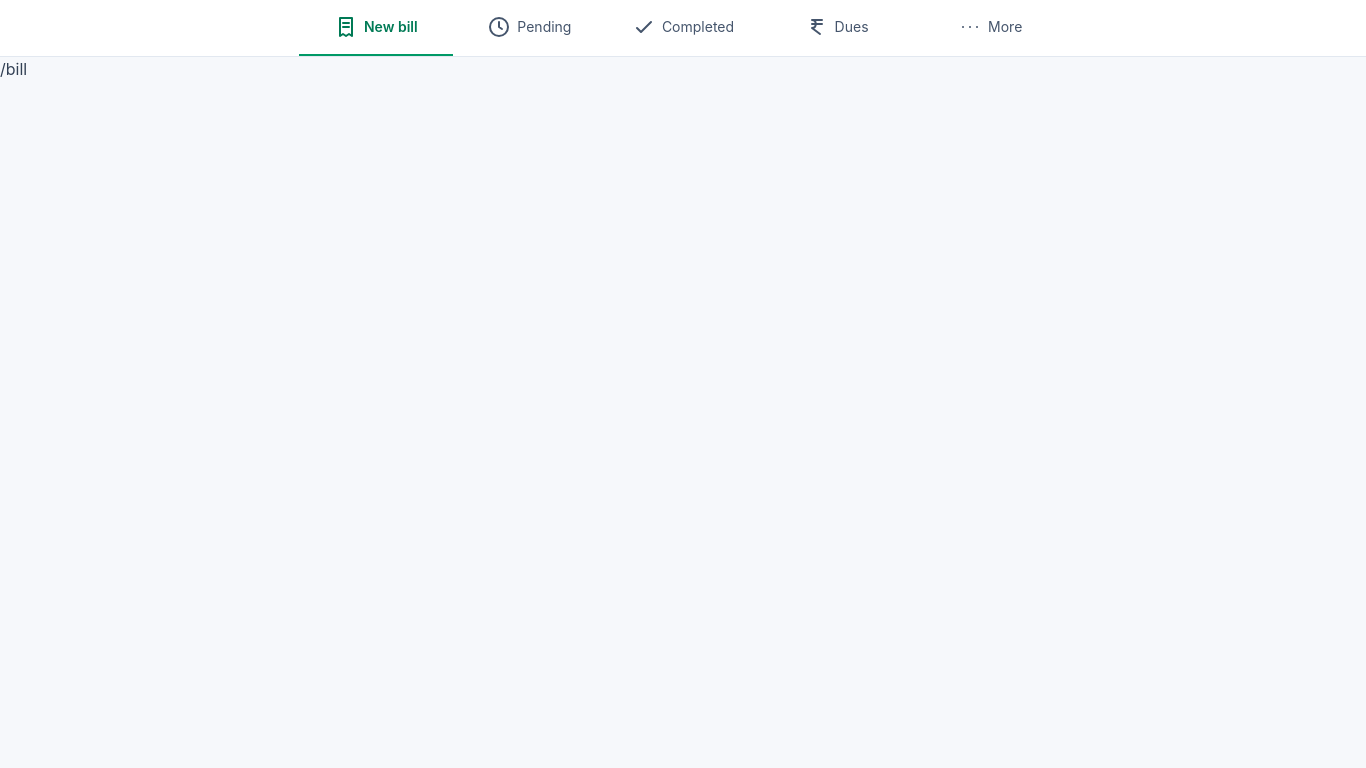
Test: BottomNav More sheet can be dismissed without choosing › closes with the Close button
Click the button "More". click: (990, 28)
box: x1=913 y1=0 x2=1067 y2=56
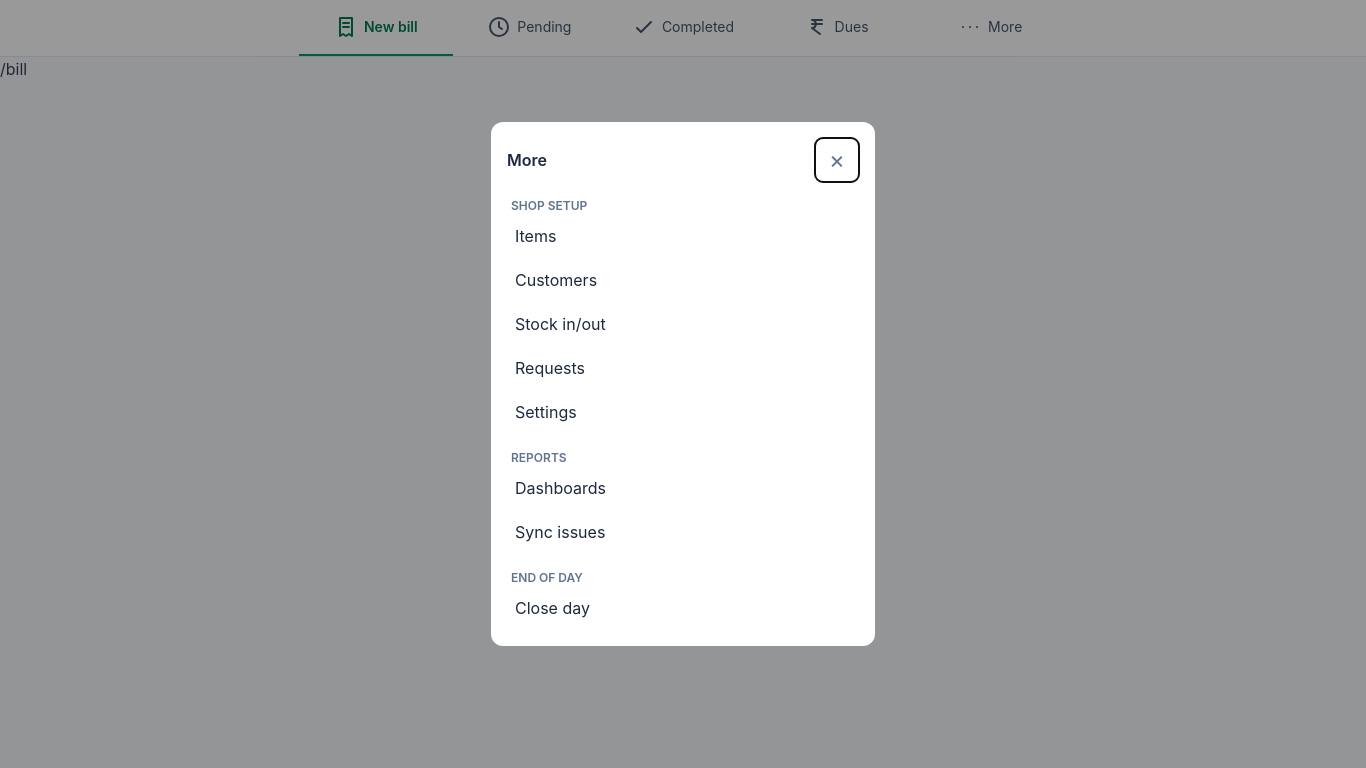
Click the button named "Close". click: (837, 160)
box: x1=815 y1=138 x2=859 y2=182
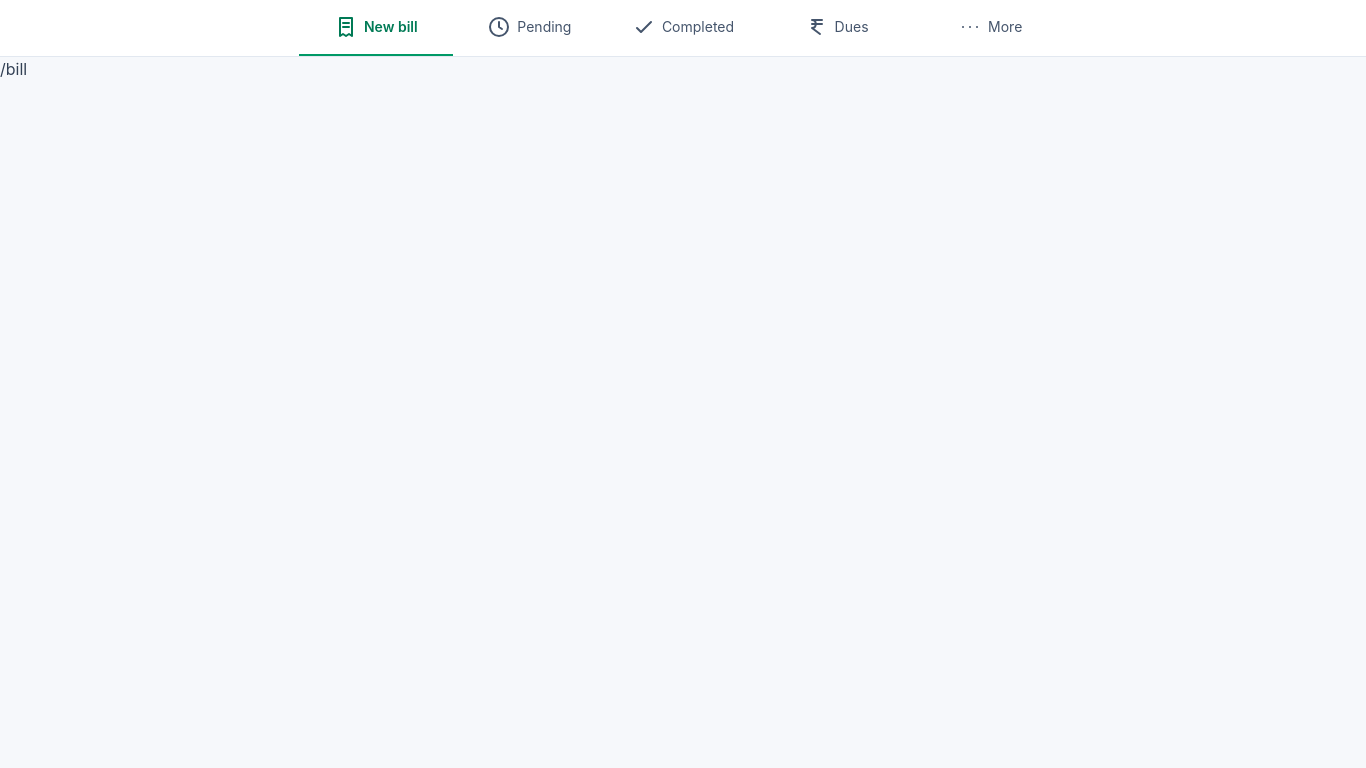
expect the text with test id "where" reads "/bill": met, box x1=0 y1=59 x2=27 y2=79
expect the dialog is gone: met
